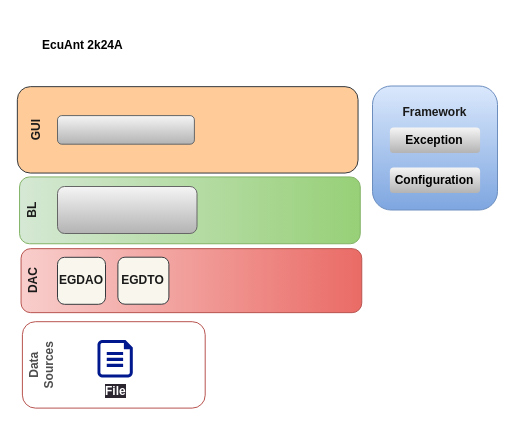
This 516x426 diagram has some shape labels left out. Each missing label, with the centre of its shape:
"EG UI Component" belongs at pixel 125 129.
"EGBusinessLogic" belongs at pixel 126 210.
